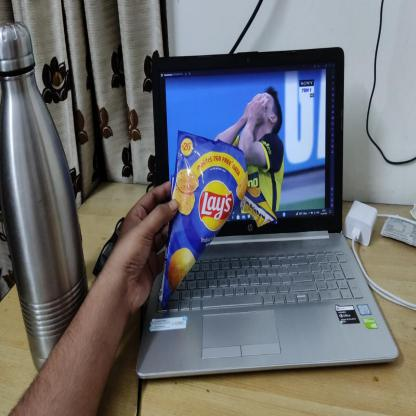indian_magic_masala: (160, 129, 248, 309)
